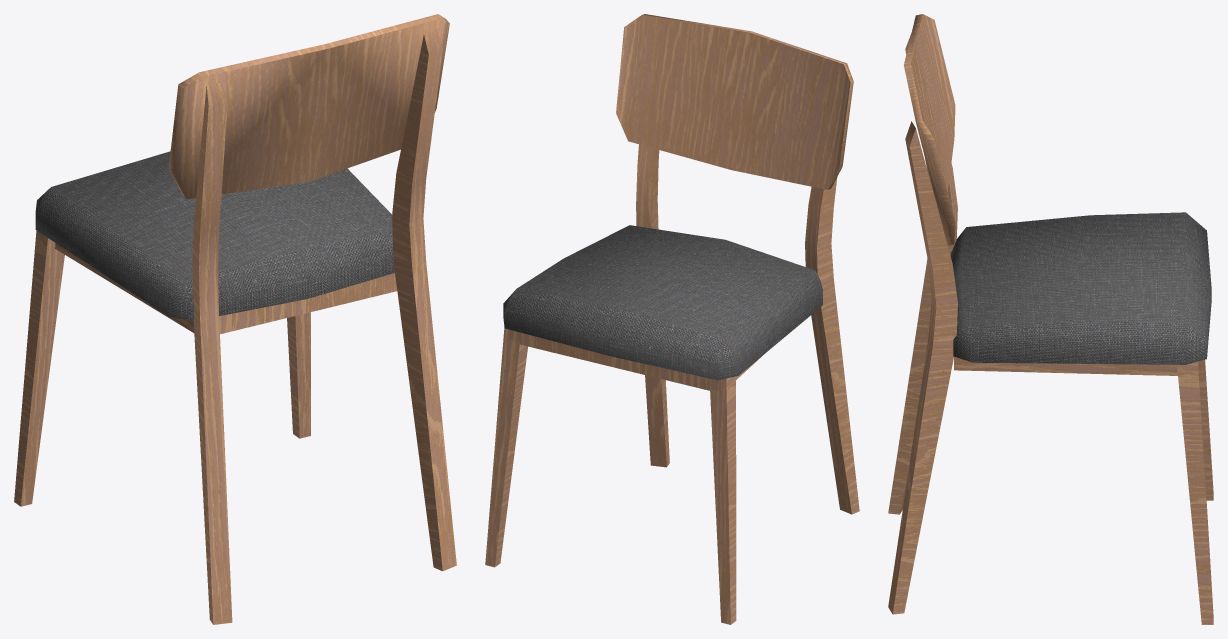
Rendered from chair_regular.dae.
3 renders of one model, left to right at view 1: azimuth 30°, elevation 25°; view 2: azimuth 150°, elevation 25°; view 3: azimuth 270°, elevation 25°, orthographic. The views are drawn at different scales.
Parts seen in each view (by area): view 1: Chair Regular; view 2: Chair Regular; view 3: Chair Regular.
Boxes of the visible parts, x1,y1,x2,y2 form: Chair Regular: [14, 14, 456, 624]; Chair Regular: [485, 14, 859, 624]; Chair Regular: [888, 14, 1213, 624].
Bounding box in the file's own units: 0.5278 × 0.5616 × 0.9449.
